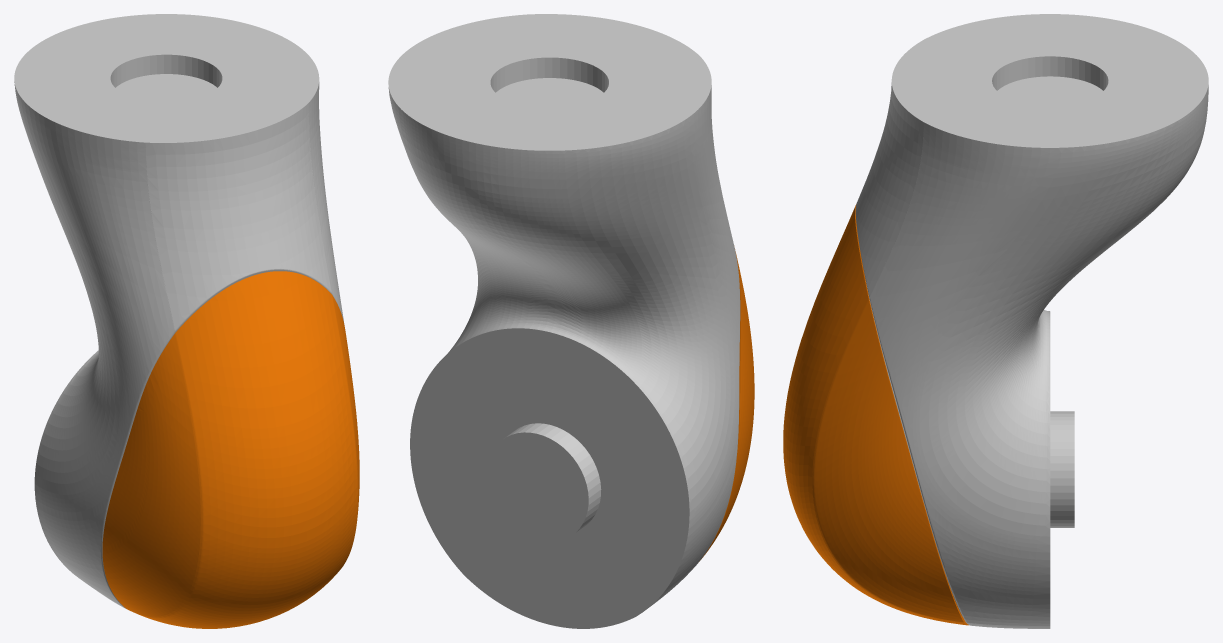
3 renders of one model, left to right at view 1: azimuth 30°, elevation 25°; view 2: azimuth 150°, elevation 25°; view 3: azimuth 270°, elevation 25°, orthographic. The views are drawn at different scales.
Visible parts, largest first — view 1: node0, node1; view 2: node0, node1; view 3: node0, node1.
Part boxes in pixels (<box>): node0: <box>14,14,344,608</box>; node1: <box>102,271,359,628</box>; node0: <box>388,14,740,628</box>; node1: <box>699,249,754,561</box>; node0: <box>855,14,1208,628</box>; node1: <box>783,204,968,625</box>.
Bounding box in the file's own units: 0.136 × 0.1826 × 0.252.
